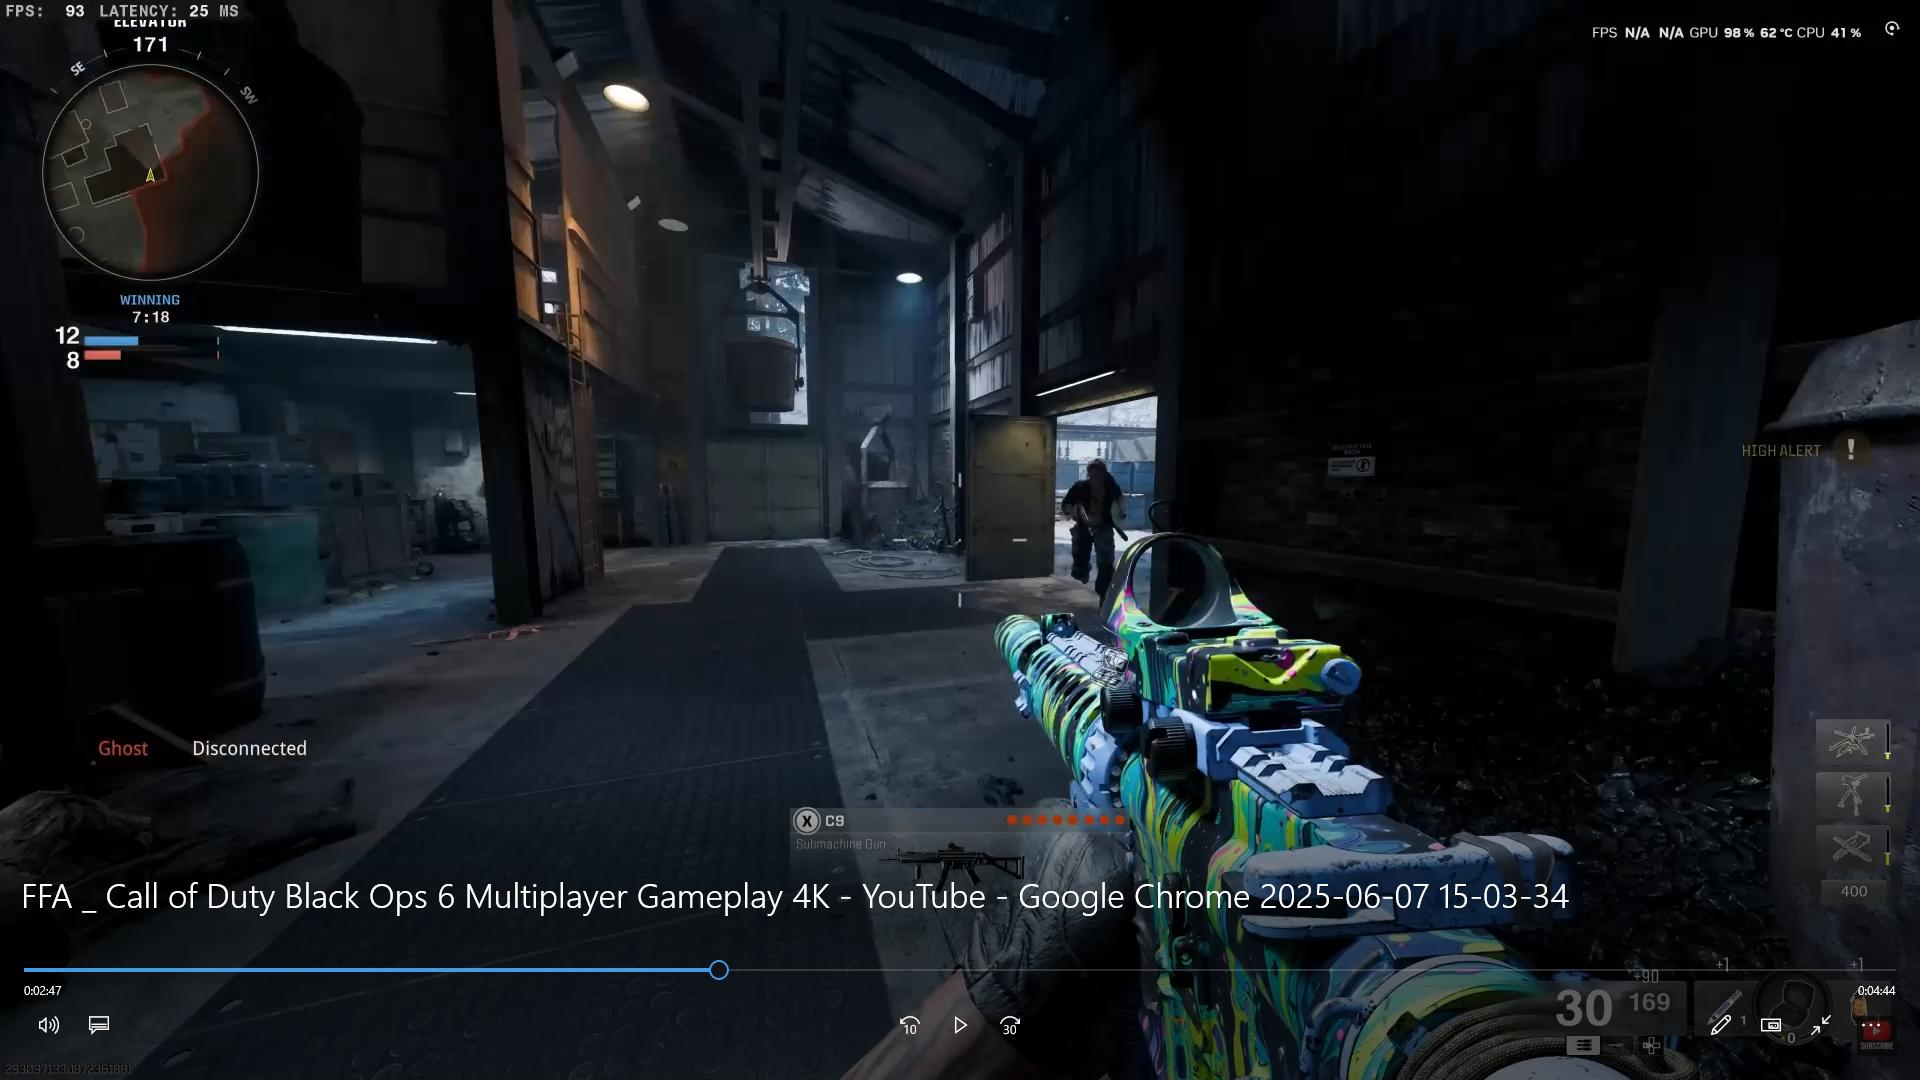Enemy: (1058, 452, 1117, 593)
